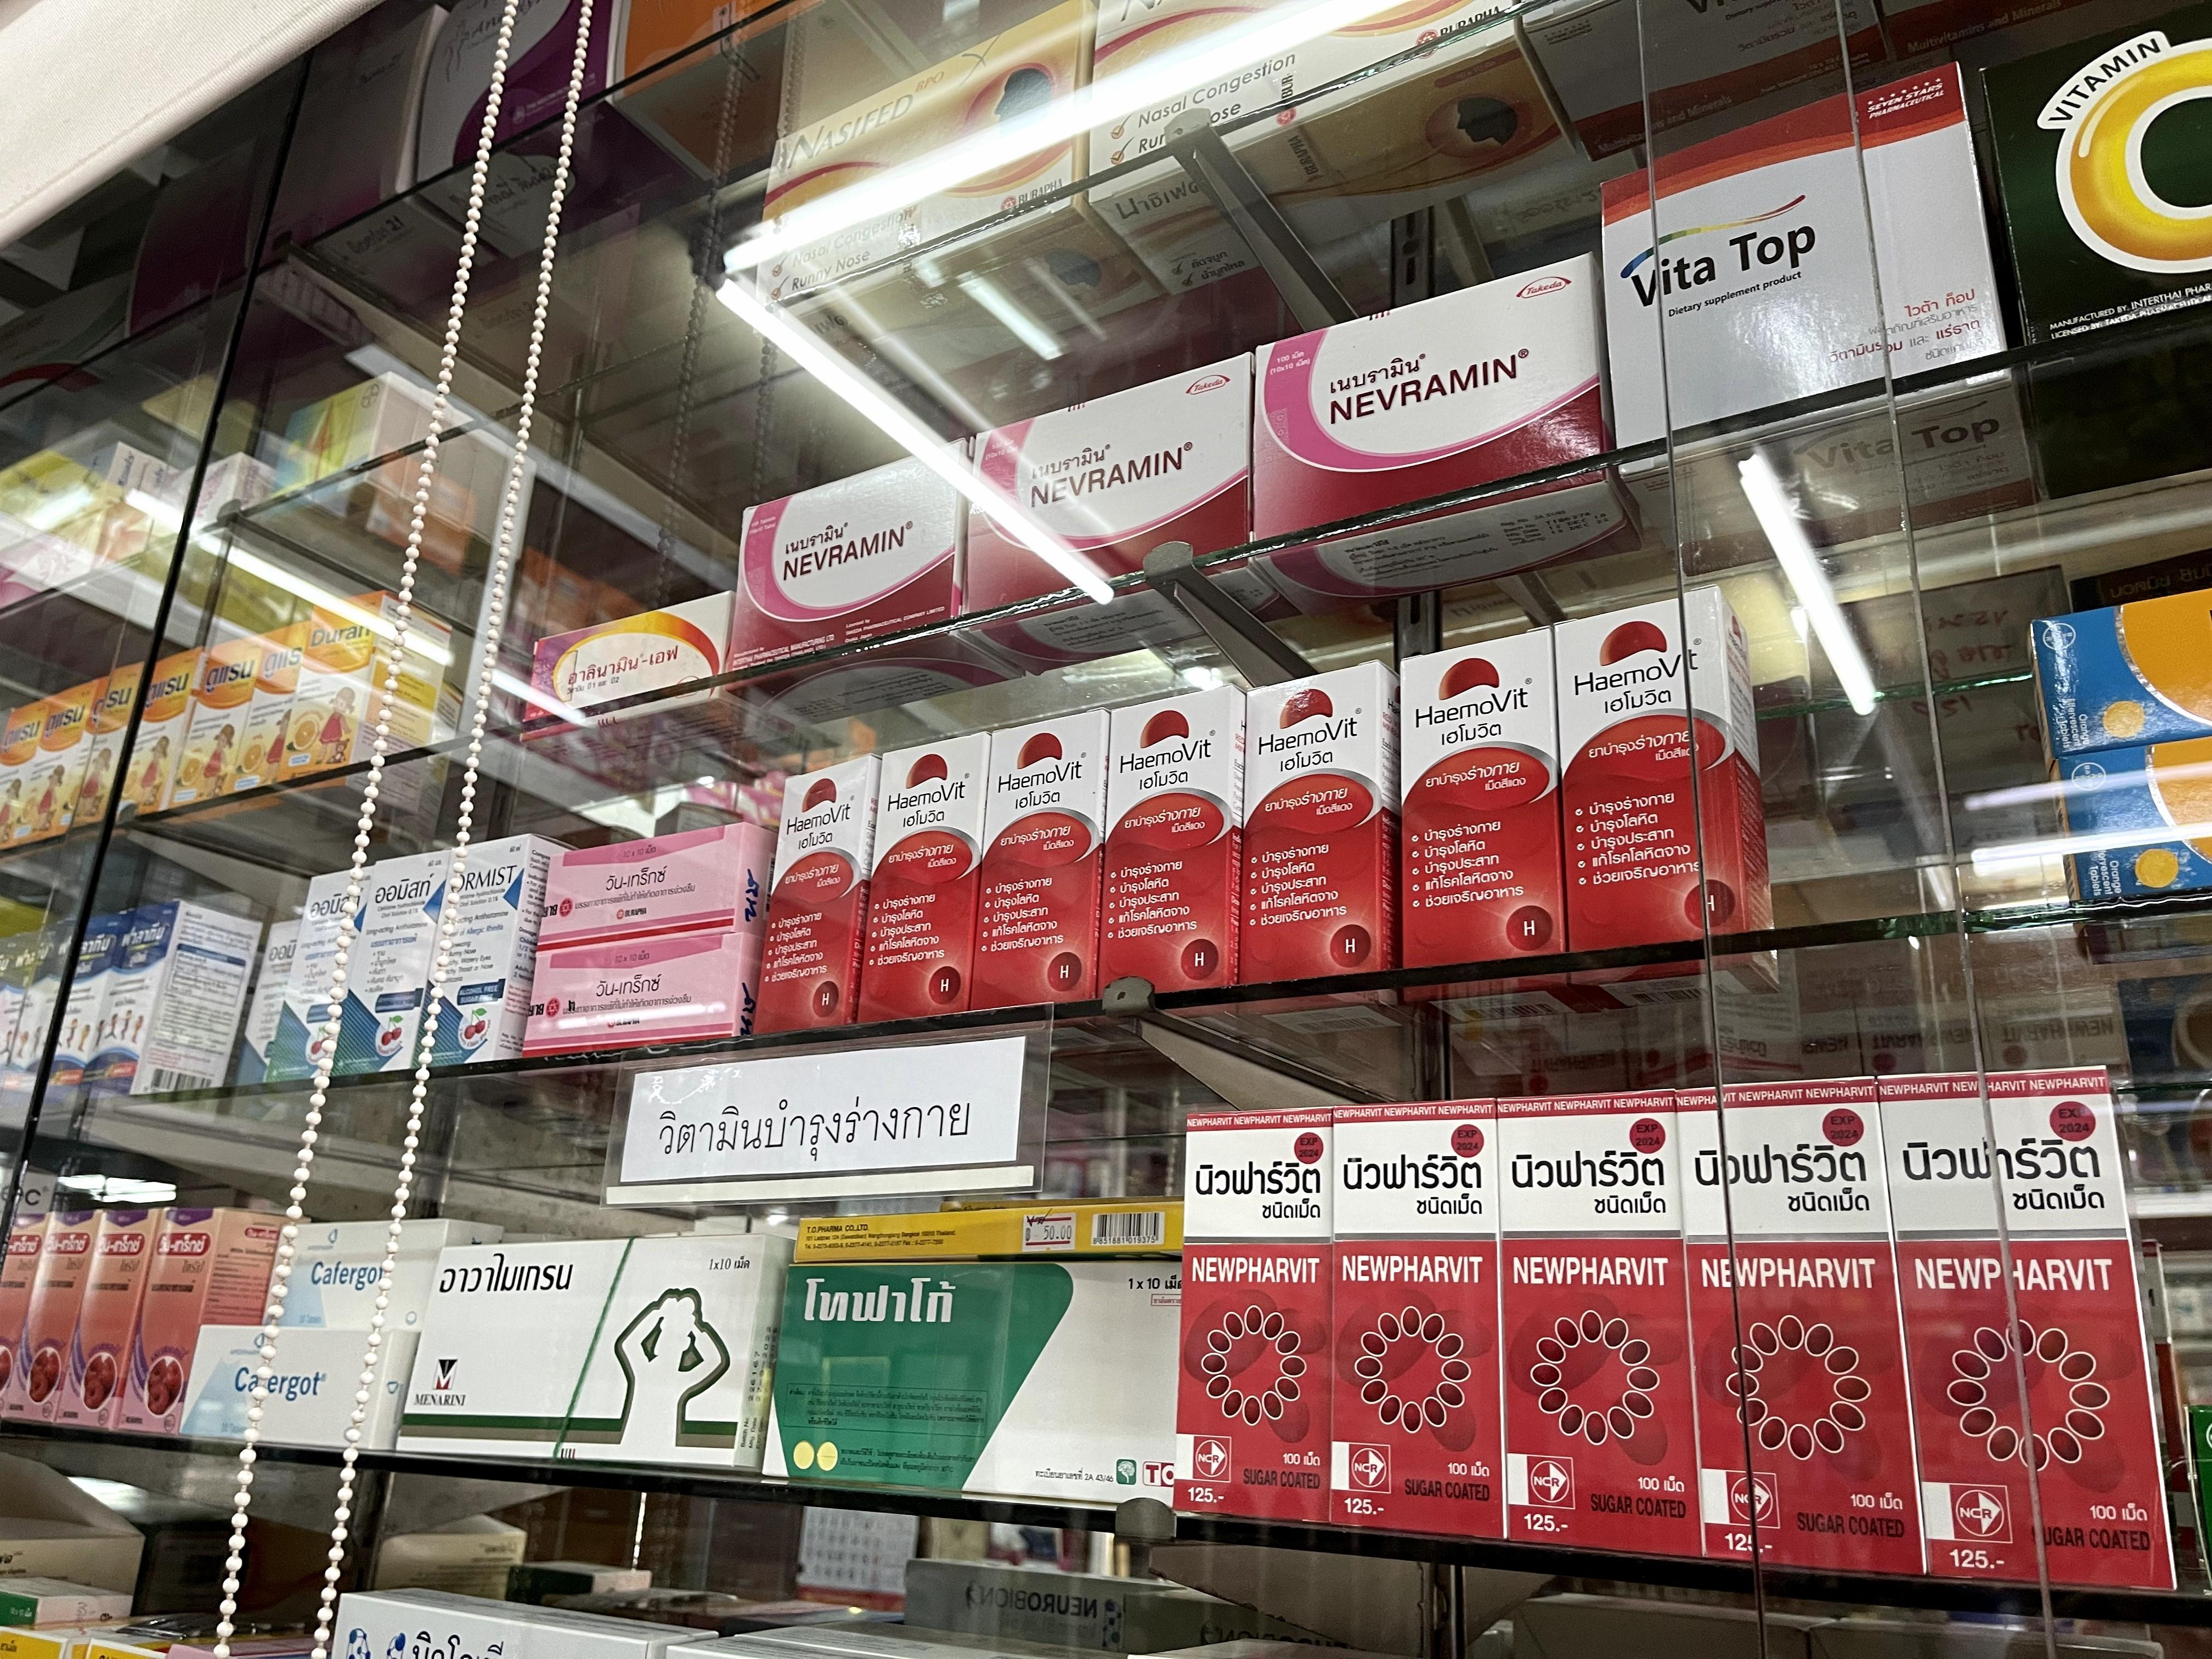Heamovit: (1550, 582, 1782, 993), (1399, 627, 1568, 999), (1242, 660, 1404, 1014), (1094, 687, 1251, 1004), (972, 708, 1111, 1012), (859, 730, 991, 1026), (752, 751, 883, 1033)
Nevramin: (1252, 254, 1618, 559), (972, 345, 1259, 599), (719, 437, 972, 674)
Newpharvit: (1883, 1072, 2177, 1595), (1679, 1080, 1925, 1575), (1498, 1093, 1696, 1554), (1336, 1101, 1498, 1544), (1172, 1108, 1336, 1525)
